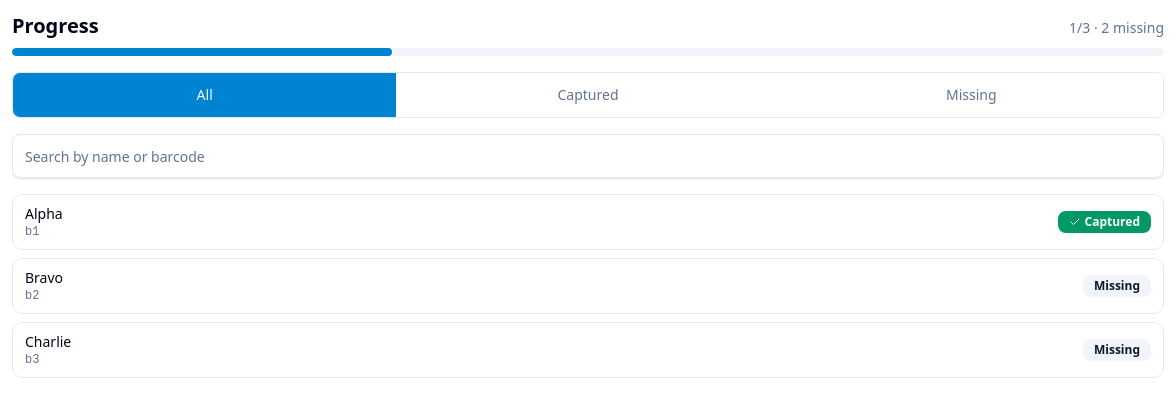
Scenario: Progress page › filters to Missing (hides captured SKUs)
Expected: the button "Alpha b1 Captured" is shown, [12,194,1164,250]
Click the button "Missing".
click(971, 95)  # box [780,73,1163,117]
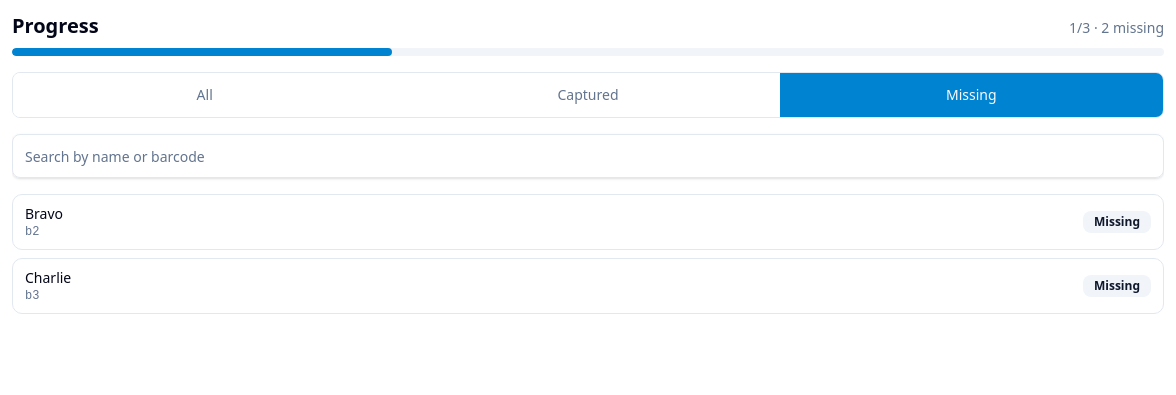
Expected: the button "Bravo b2 Missing" is shown, [12,194,1164,250]
Now the button "Alpha" is gone
